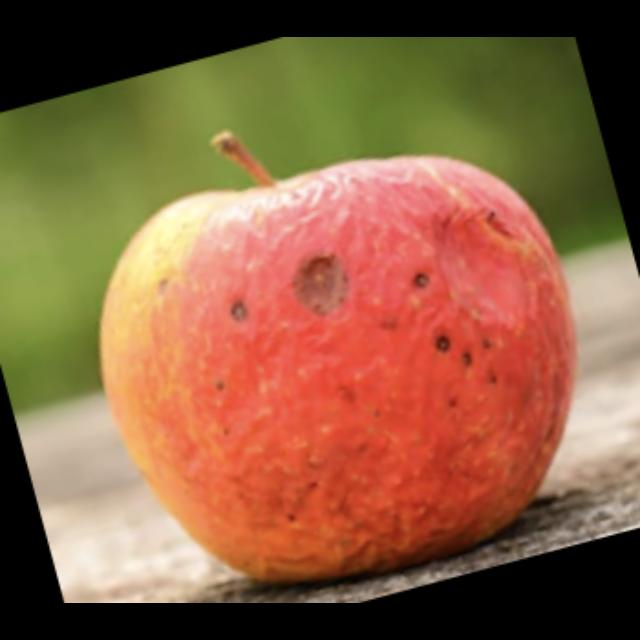Apel Tidak Segar: (58, 116, 608, 590)
